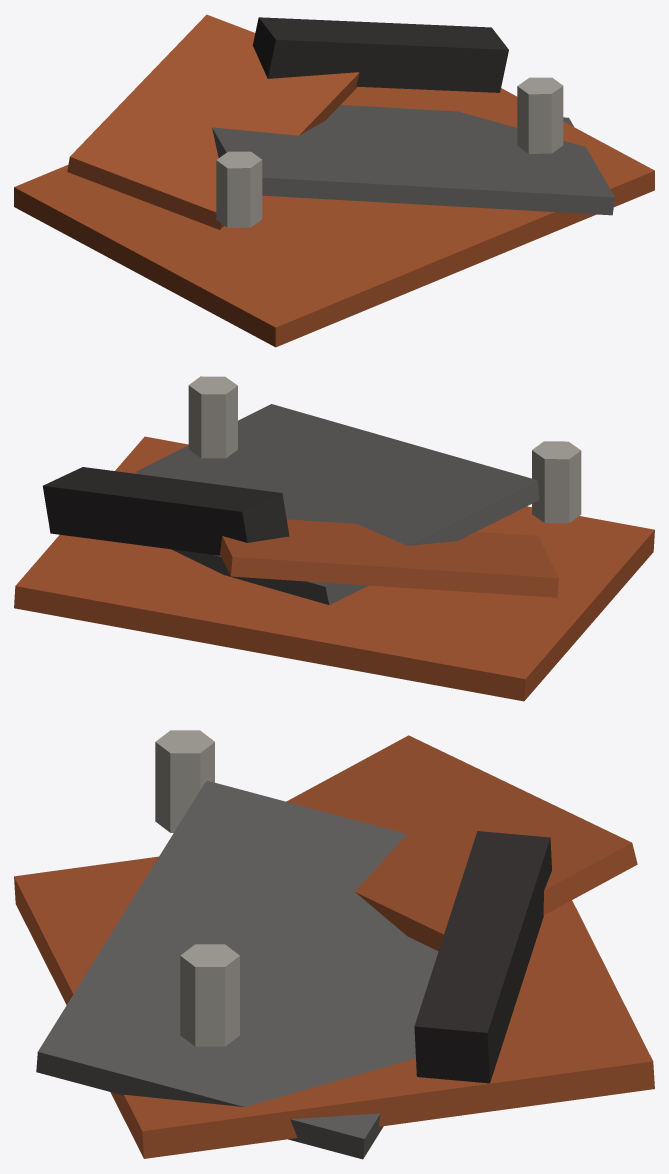
File: Scrap.fbx
3 views of the same model, one above another, from view 1: azimuth 30°, elevation 25°; view 2: azimuth 150°, elevation 25°; view 3: azimuth 270°, elevation 25° (orthographic). The views are drawn at different scales.
Visible parts, largest first — view 1: Scrap; view 2: Scrap; view 3: Scrap.
Boxes of the visible parts, x1,y1,x2,y2 form: Scrap: (14,14,654,347); Scrap: (14,376,654,701); Scrap: (14,730,654,1159).
Size of the model in its own units: 3 by 0.8 by 2.5.
